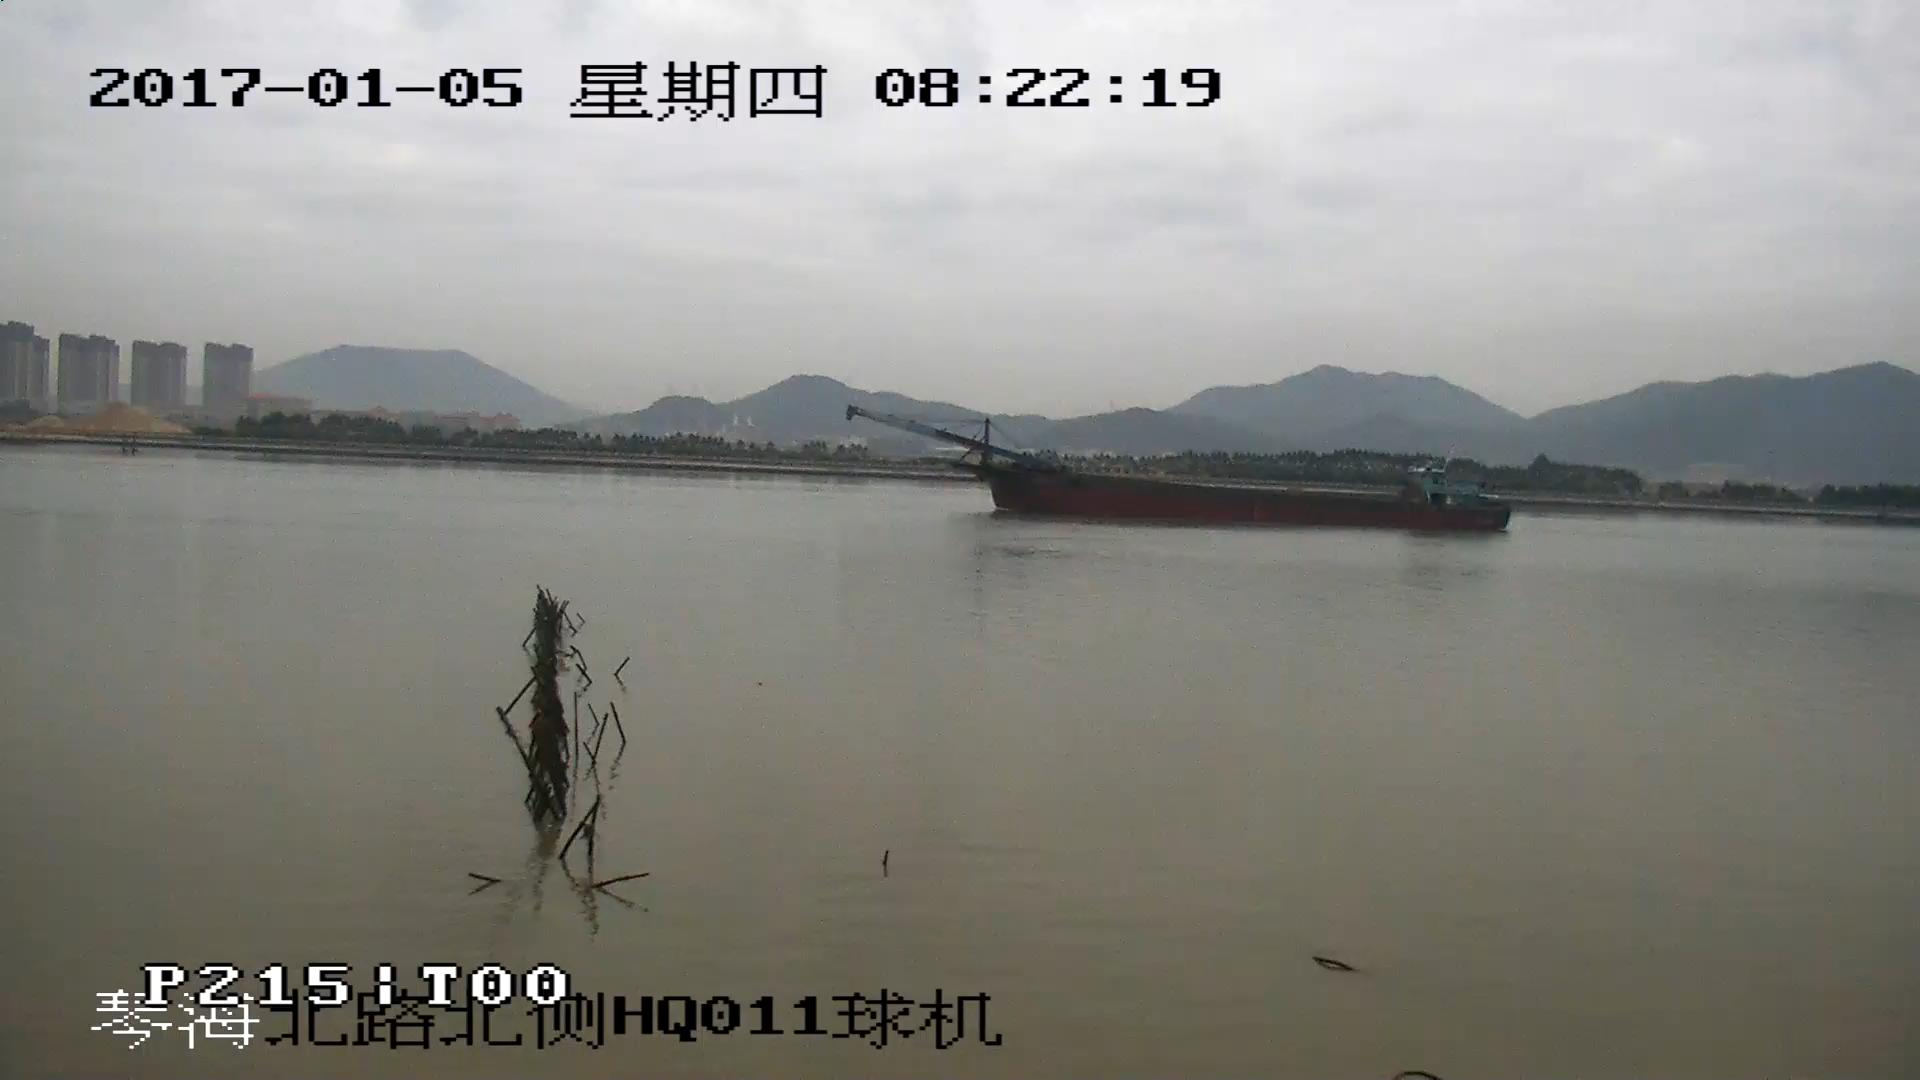bulk cargo carrier: (850, 407, 1513, 533)
